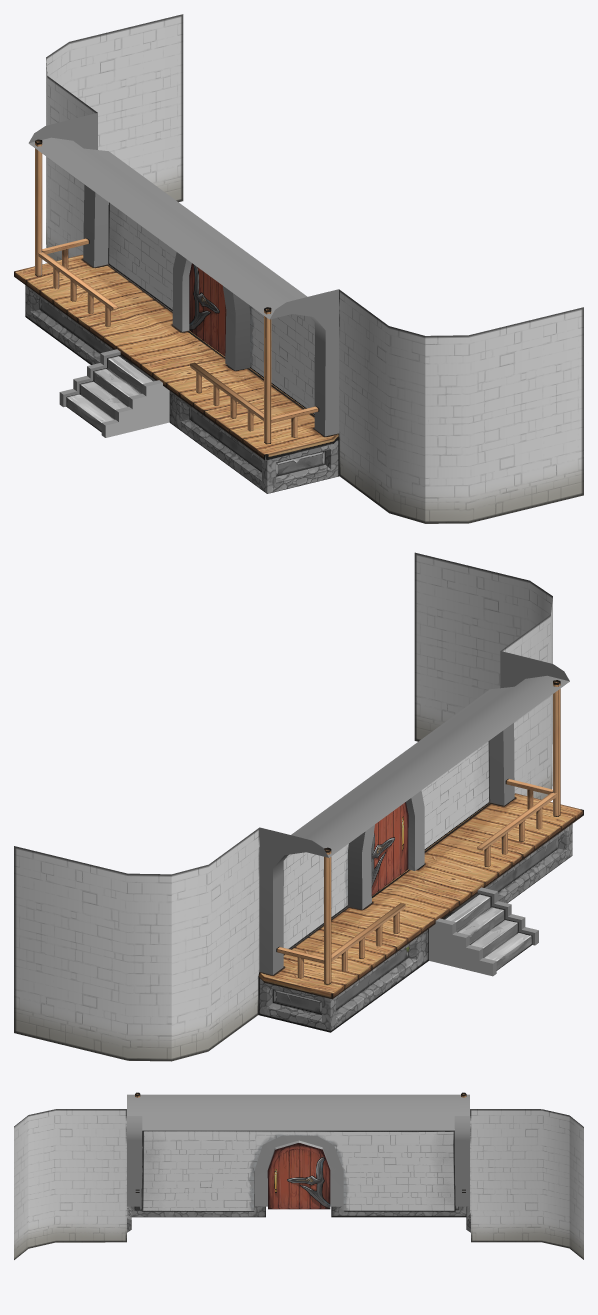
Rendered from JR home.fbx.
3 views of the same model, one above another, from view 1: azimuth 30°, elevation 25°; view 2: azimuth 150°, elevation 25°; view 3: azimuth 270°, elevation 25° (orthographic). The views are drawn at different scales.
Parts seen in each view (by area): view 1: Box001, Object001, Object002; view 2: Box001, Object002, Object001; view 3: Box001.
Boxes of the visible parts, x1=… form: Box001: x1=14, y1=14, x2=583, y2=523; Object001: x1=190, y1=307, x2=319, y2=444; Object002: x1=35, y1=139, x2=118, y2=326; Box001: x1=14, y1=552, x2=583, y2=1061; Object002: x1=276, y1=847, x2=405, y2=984; Object001: x1=477, y1=680, x2=560, y2=867; Box001: x1=14, y1=1094, x2=583, y2=1259.
Size of the model in its own units: 87.42 by 52.25 by 201.
